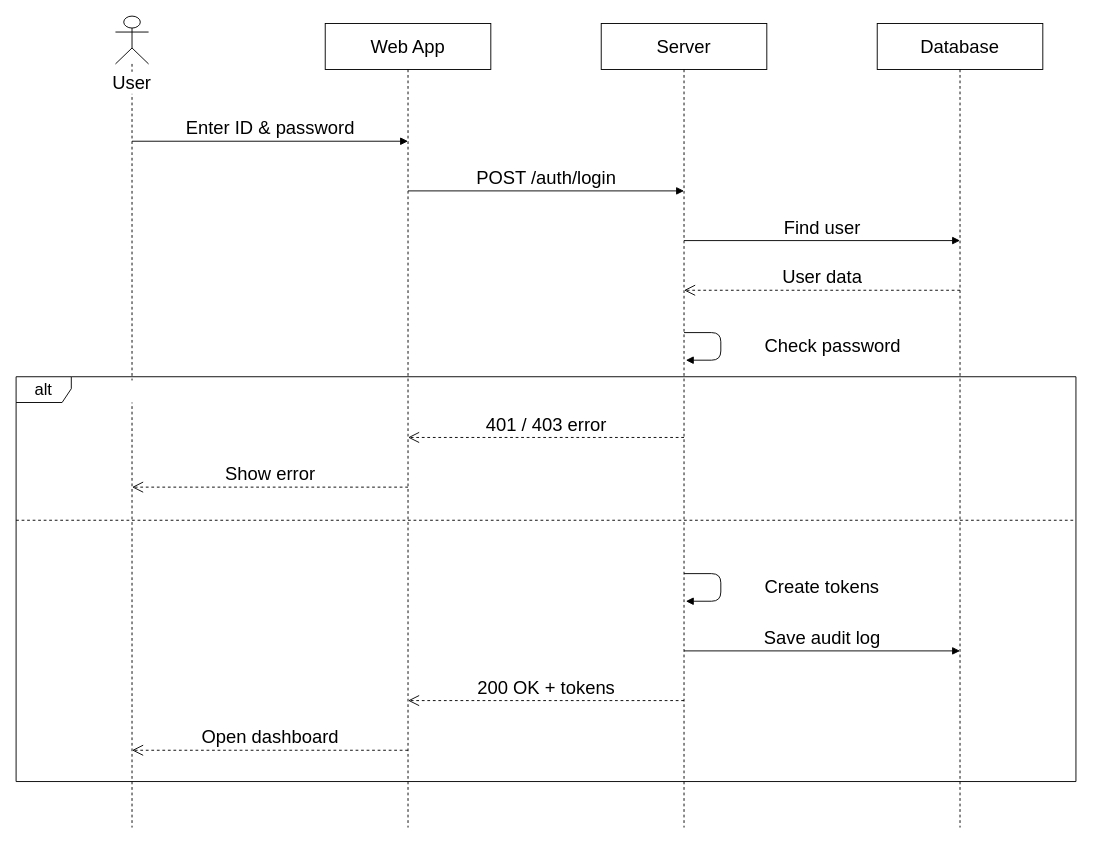
Image size: 1093x844. Some labels were removed from this diagram. Each missing label, with the box of its shape:
[valid]: (25, 523, 97, 546)
[wrong or suspended]: (80, 380, 263, 402)
